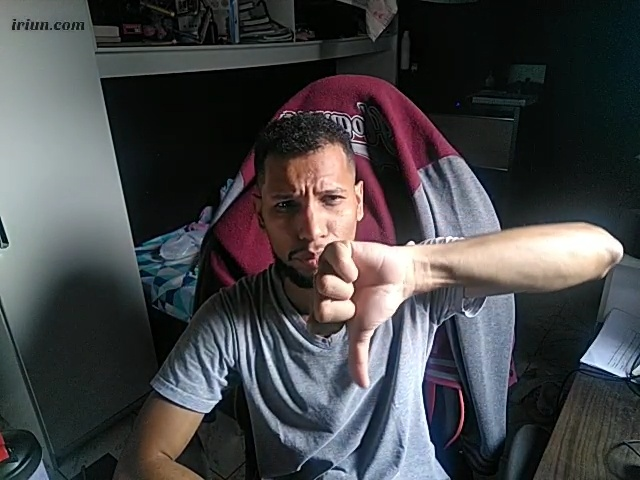não: (301, 236, 422, 398)
